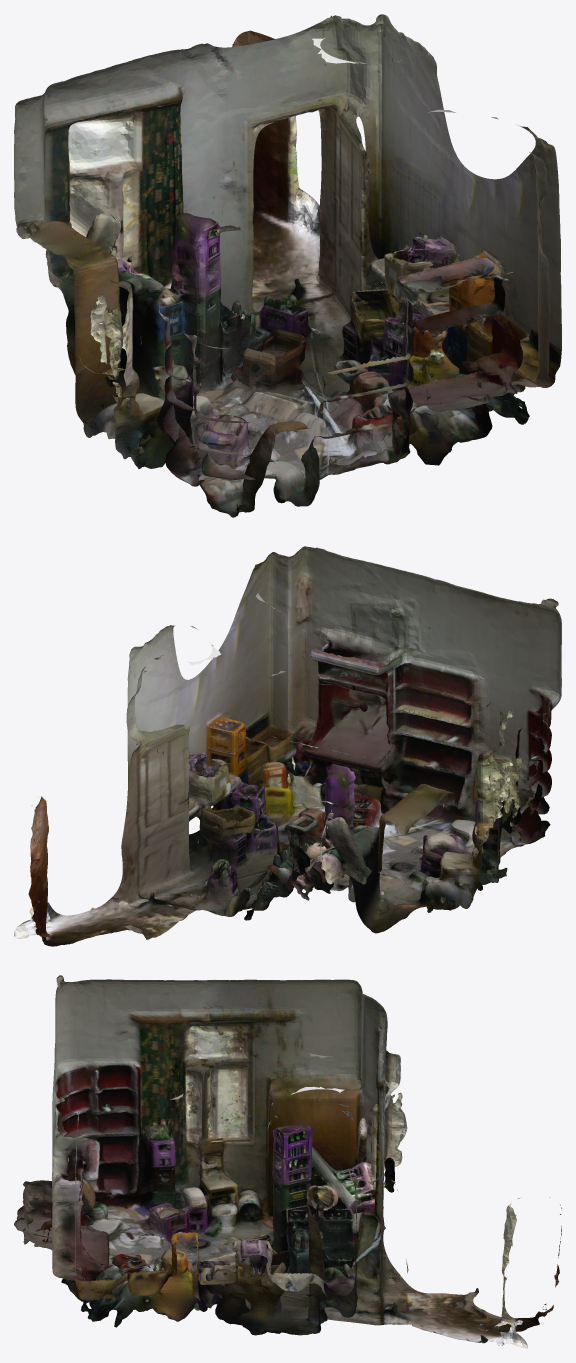
3 views of the same model, one above another, from view 1: azimuth 30°, elevation 25°; view 2: azimuth 150°, elevation 25°; view 3: azimuth 270°, elevation 25° (orthographic). The views are drawn at different scales.
Bounding box in the file's own units: 4.75 × 3.26 × 6.93.
Materials: 2 (2 with a texture image).
